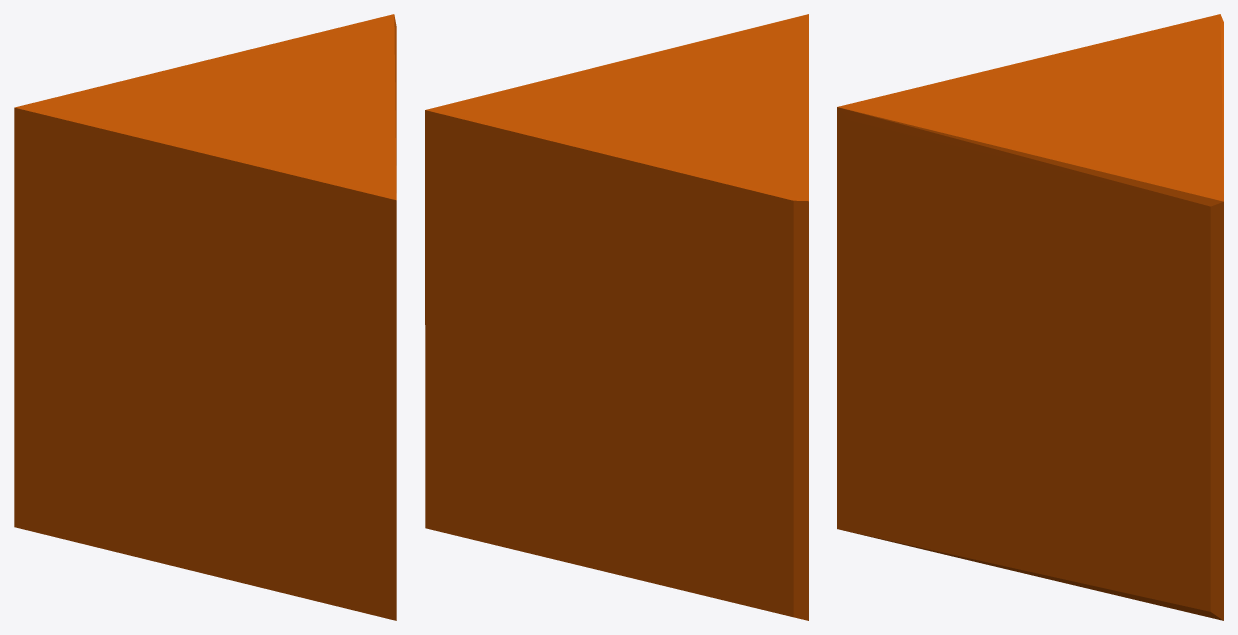
The model's file is triangle_prism_convex_piece_000.obj.
The picture shows the model from 3 angles, left to right: view 1: azimuth 30°, elevation 25°; view 2: azimuth 150°, elevation 25°; view 3: azimuth 270°, elevation 25°; orthographic projection.
Bounding box in the file's own units: 0.091 × 0.0958 × 0.0796.
